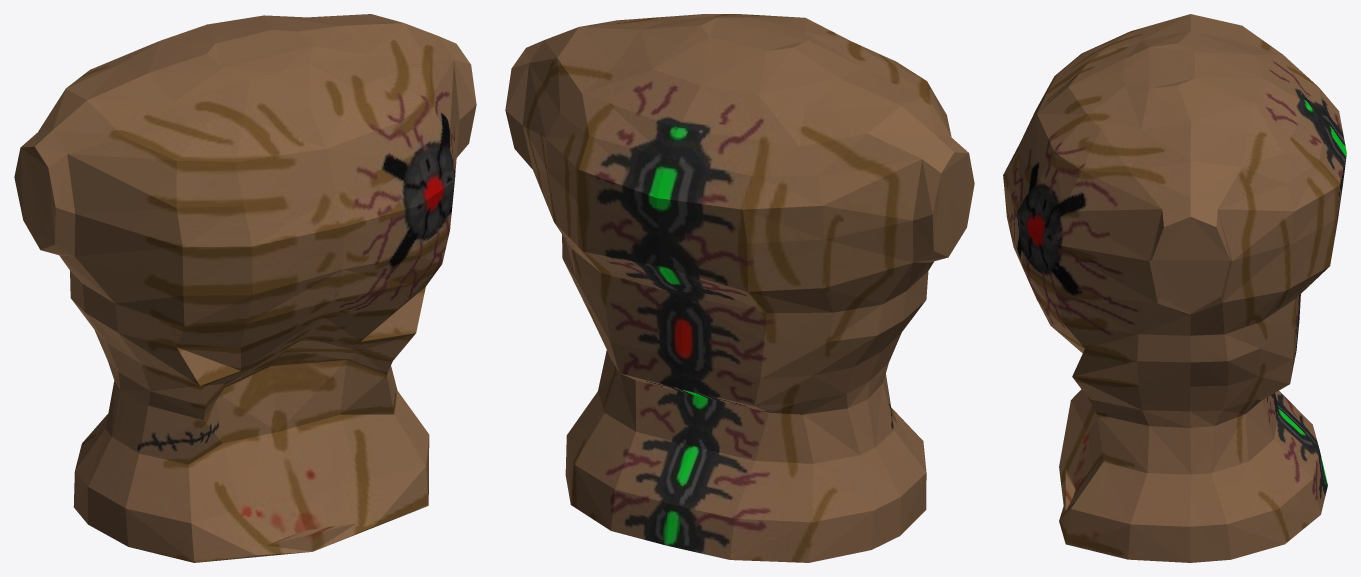
The model's file is 支解身體.FBX.
3 renders of one model, left to right at view 1: azimuth 30°, elevation 25°; view 2: azimuth 150°, elevation 25°; view 3: azimuth 270°, elevation 25°, orthographic. The views are drawn at different scales.
Visible parts, largest first — view 1: Box001; view 2: Box001; view 3: Box001.
Boxes of the visible parts, x1,y1,x2,y2 form: Box001: (14,14,476,562); Box001: (505,14,974,562); Box001: (1003,14,1346,562).
Size of the model in its own units: 34.6 by 36.35 by 25.65.
1 material, 1 textured.
